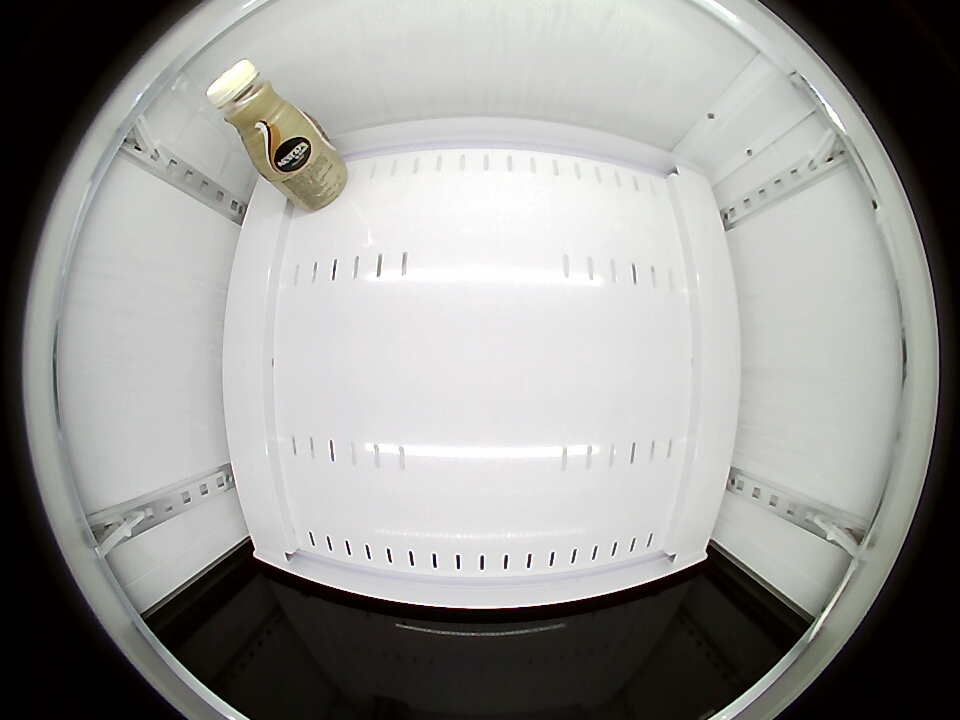kafei: (207, 59, 310, 169)
